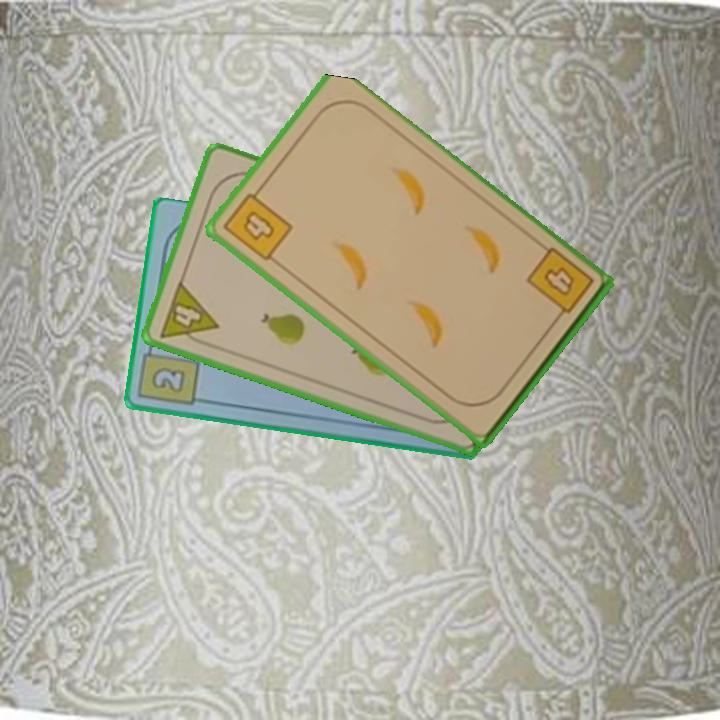2b: (135, 337, 202, 409)
4b: (219, 183, 296, 264), (522, 244, 597, 327)
4p: (155, 277, 221, 351)
